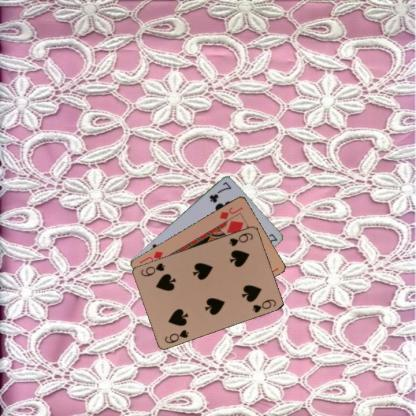6s: (162, 327, 190, 344), (227, 230, 254, 247)
7c: (207, 179, 232, 205)
Jd: (217, 204, 244, 220)
